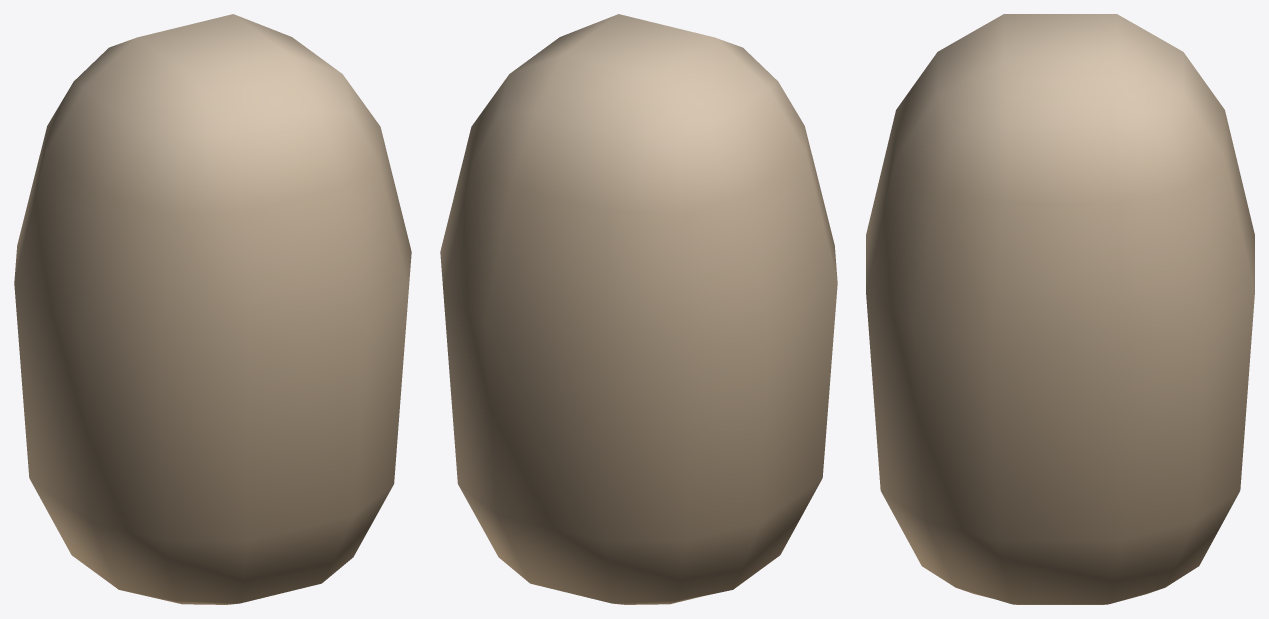
File: Rock_6_C_Color7.fbx
3 views of the same model, side by side, from view 1: azimuth 30°, elevation 25°; view 2: azimuth 150°, elevation 25°; view 3: azimuth 270°, elevation 25° (orthographic). The views are drawn at different scales.
Parts seen in each view (by area): view 1: Rock_6_C_Color7; view 2: Rock_6_C_Color7; view 3: Rock_6_C_Color7.
Part boxes in pixels (box(x1,y1,x2,y2)): Rock_6_C_Color7: box(14, 14, 411, 604); Rock_6_C_Color7: box(440, 14, 837, 604); Rock_6_C_Color7: box(866, 14, 1254, 604).
Bounding box in the file's own units: 0.6495 × 0.9797 × 0.6495.
